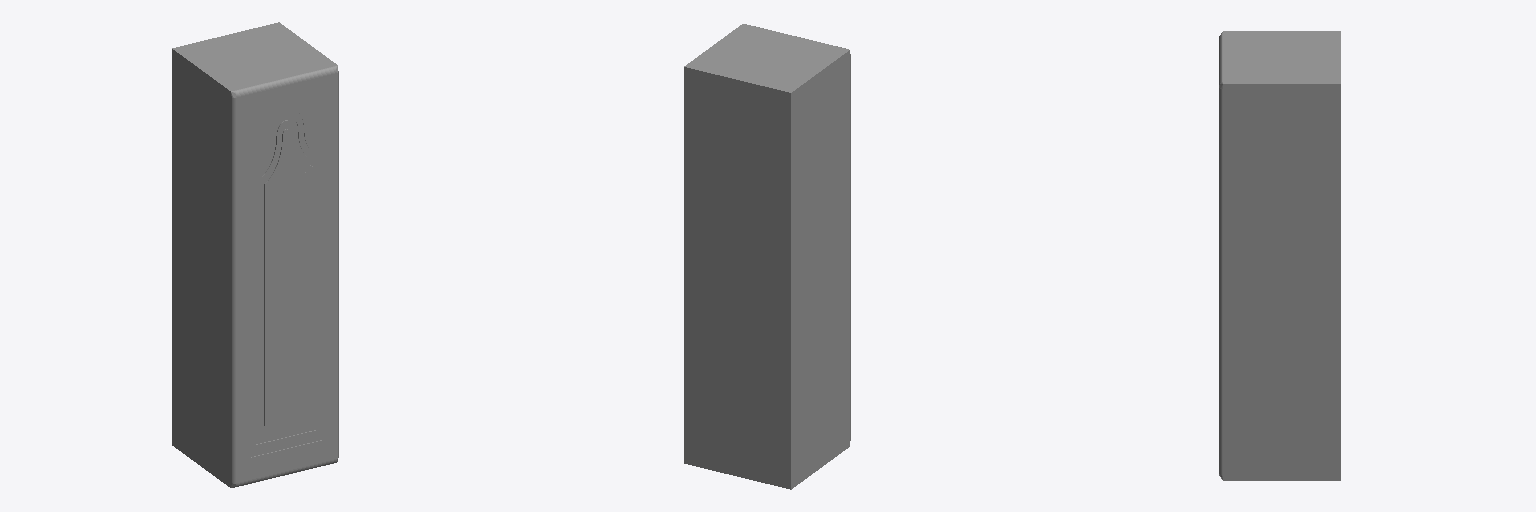
The model's file is larder-unit-600.obj.
3 views of the same model, side by side, from view 1: azimuth 30°, elevation 25°; view 2: azimuth 150°, elevation 25°; view 3: azimuth 270°, elevation 25° (orthographic).
Visible parts, largest first — view 1: Cube.003_Cube.008, Cube.002_Cube.004, Cube_Cube.002; view 2: Cube_Cube.002, Cube.002_Cube.004, Cube.001_Cube.003; view 3: Cube.001_Cube.003, Cube_Cube.002, Cube.003_Cube.008.
Part boxes in pixels (x1,y1,x2,y2): Cube.003_Cube.008: (231, 65, 338, 487); Cube.002_Cube.004: (172, 48, 232, 487); Cube_Cube.002: (176, 23, 334, 90); Cube_Cube.002: (687, 24, 846, 488); Cube.002_Cube.004: (789, 49, 849, 489); Cube.001_Cube.003: (684, 24, 744, 463); Cube.001_Cube.003: (1223, 82, 1340, 480); Cube_Cube.002: (1223, 33, 1340, 81); Cube.003_Cube.008: (1219, 32, 1222, 479).
Size of the model in its own units: 120 by 424 by 118.